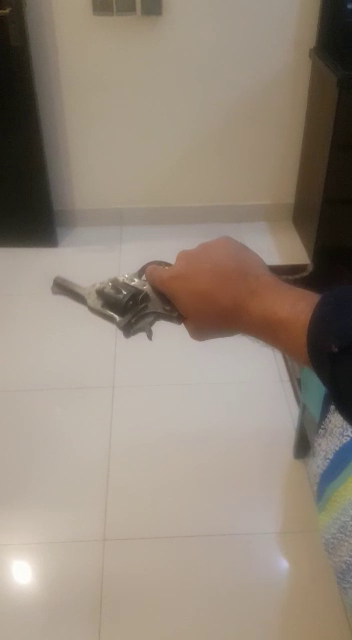handgun: (47, 248, 280, 337)
